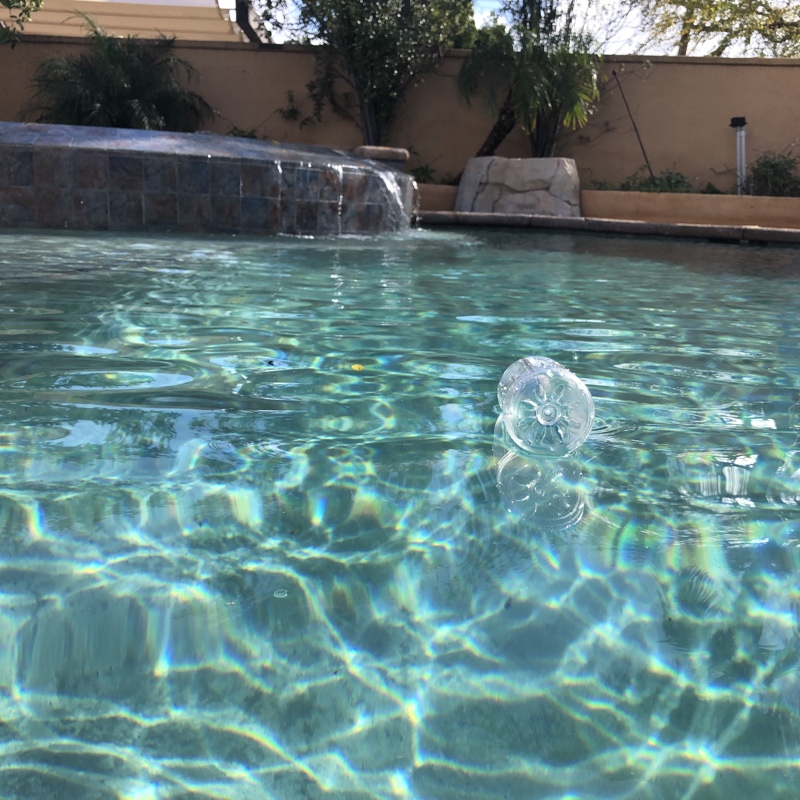Plastic Bottle: (493, 351, 599, 466)
